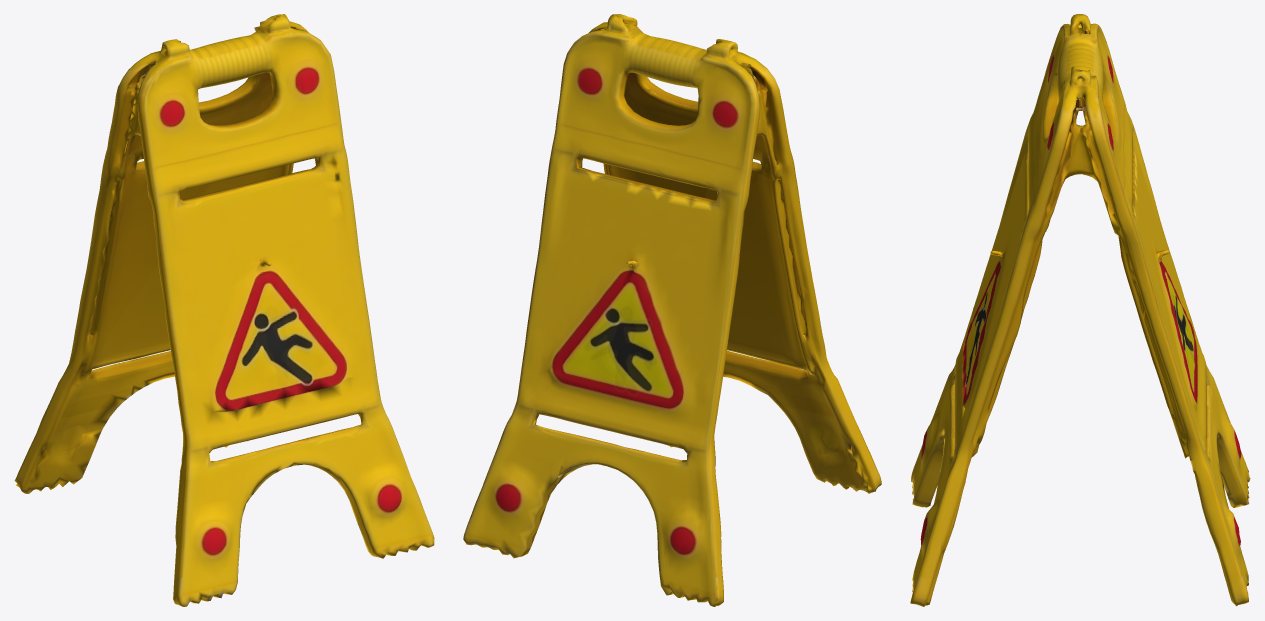
Rendered from Meshy_AI_Caution_Sign_0102212758_texture.fbx.
3 views of the same model, side by side, from view 1: azimuth 30°, elevation 25°; view 2: azimuth 150°, elevation 25°; view 3: azimuth 270°, elevation 25° (orthographic). The views are drawn at different scales.
Parts seen in each view (by area): view 1: Mesh0; view 2: Mesh0; view 3: Mesh0.
Part boxes in pixels (box(x1,y1,x2,y2)): Mesh0: box(14, 14, 434, 606); Mesh0: box(463, 14, 881, 606); Mesh0: box(910, 14, 1250, 606).
Bounding box in the file's own units: 104 × 192 × 117.
1 material, 1 textured.
